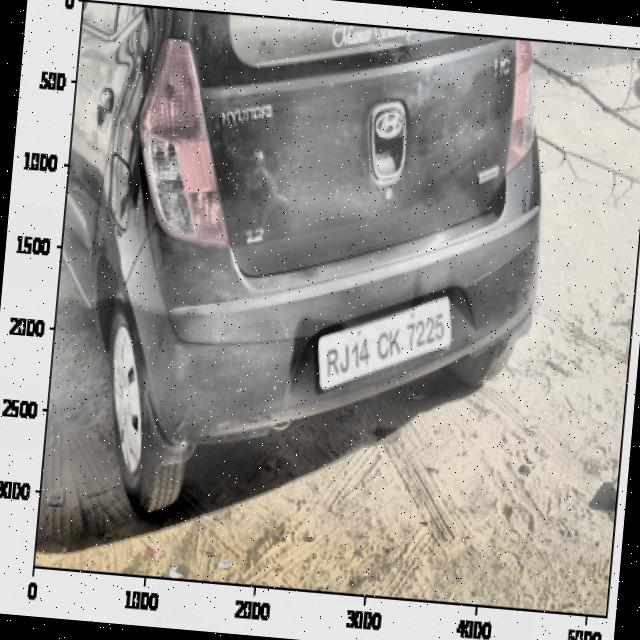license_plate: (320, 298, 449, 390)
